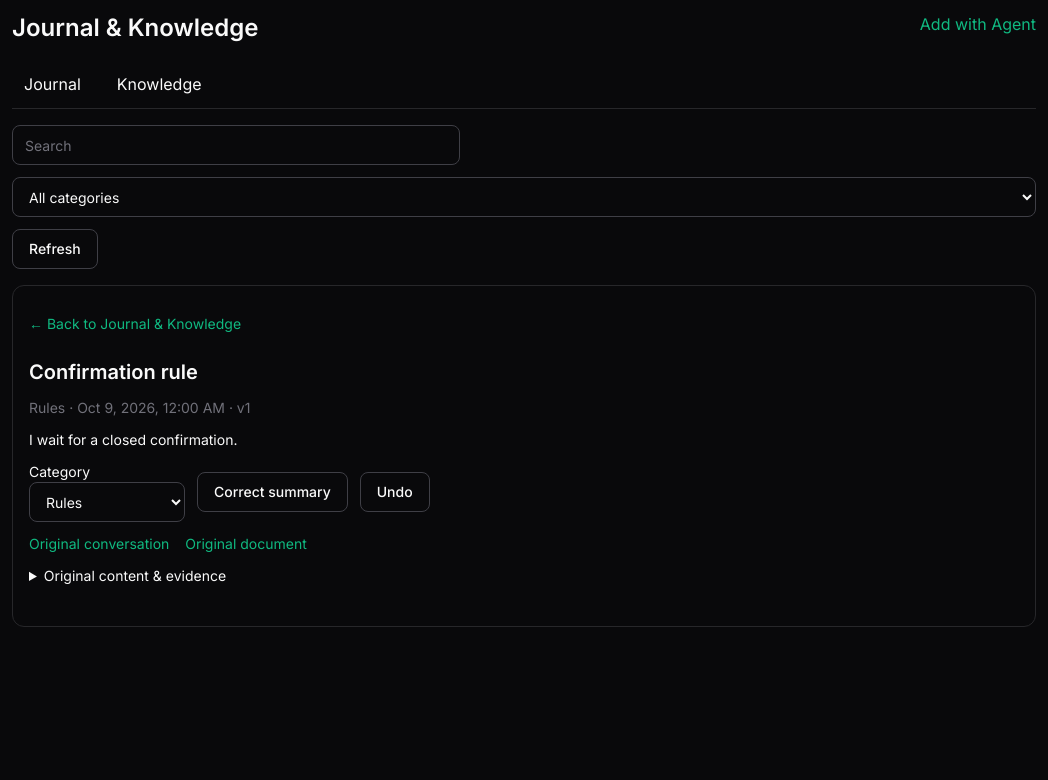
Test case: retains a failed correction and does not claim it was saved
Expected: the heading "Confirmation rule" is shown, [29,360,198,384]
Click the button "Correct summary". click: (272, 492)
box: [197,472,348,512]
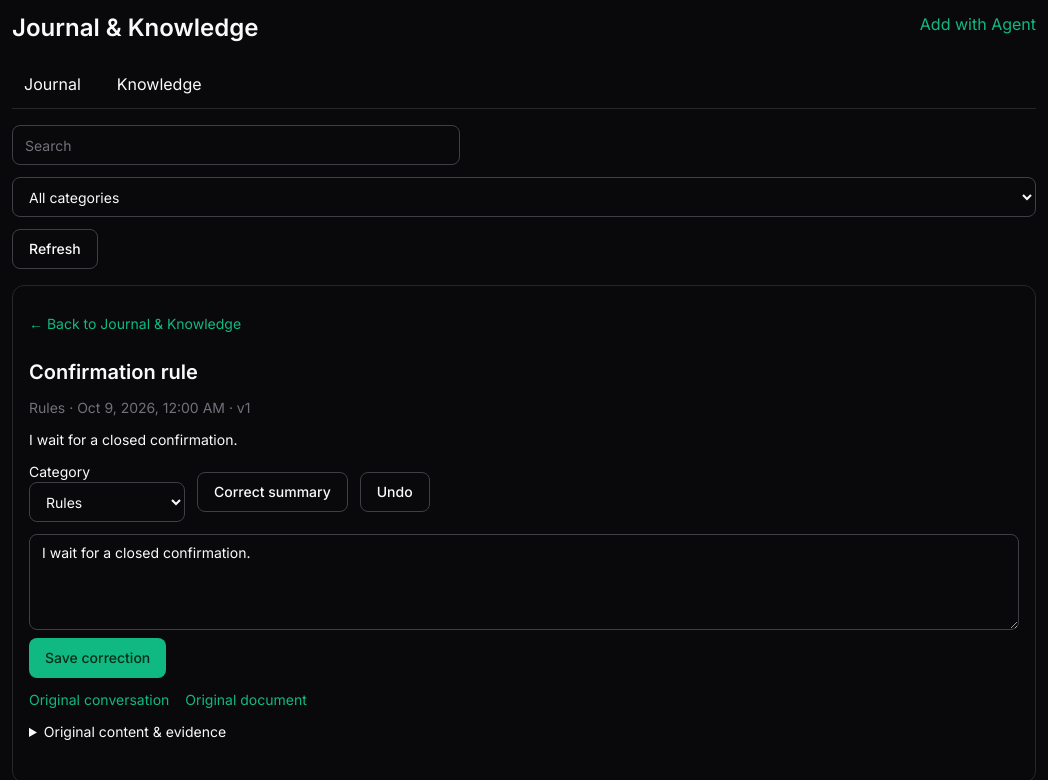
Replace the text in the text box named "Corrected summary" with "Retained correction". click: (524, 582)
box: [29,534,1019,630]
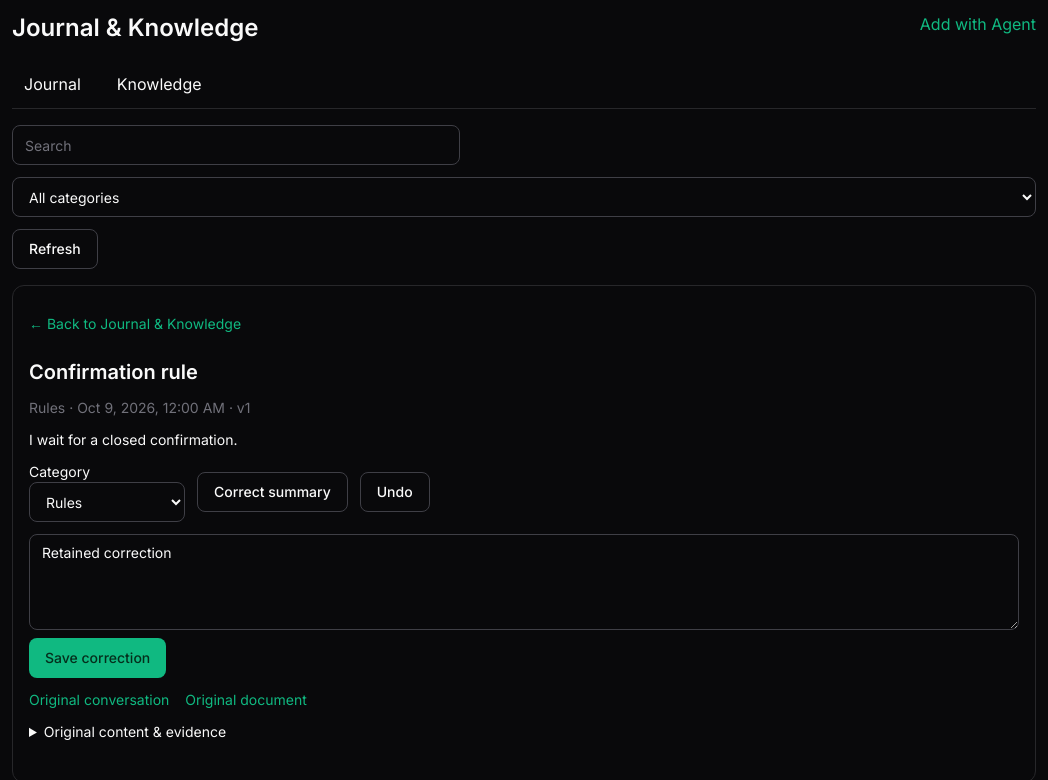
Click the button "Save correction". click: (98, 658)
box: [29,638,166,678]
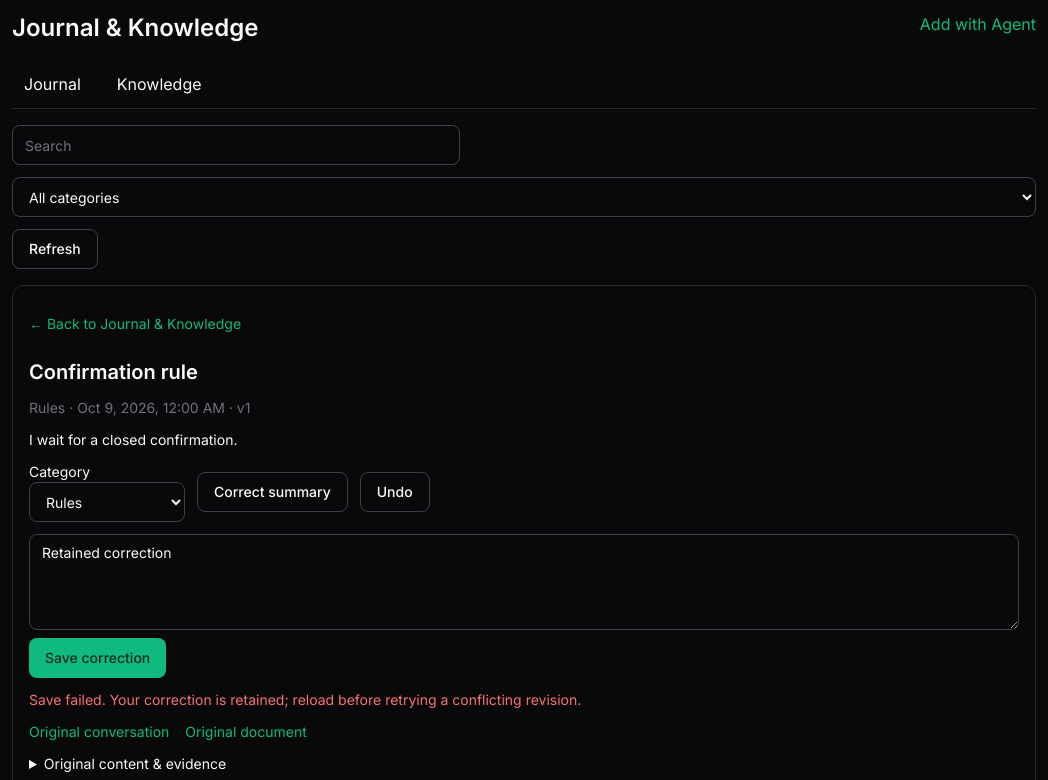
Expected: the message shows "Save failed", [29,691,581,708]
